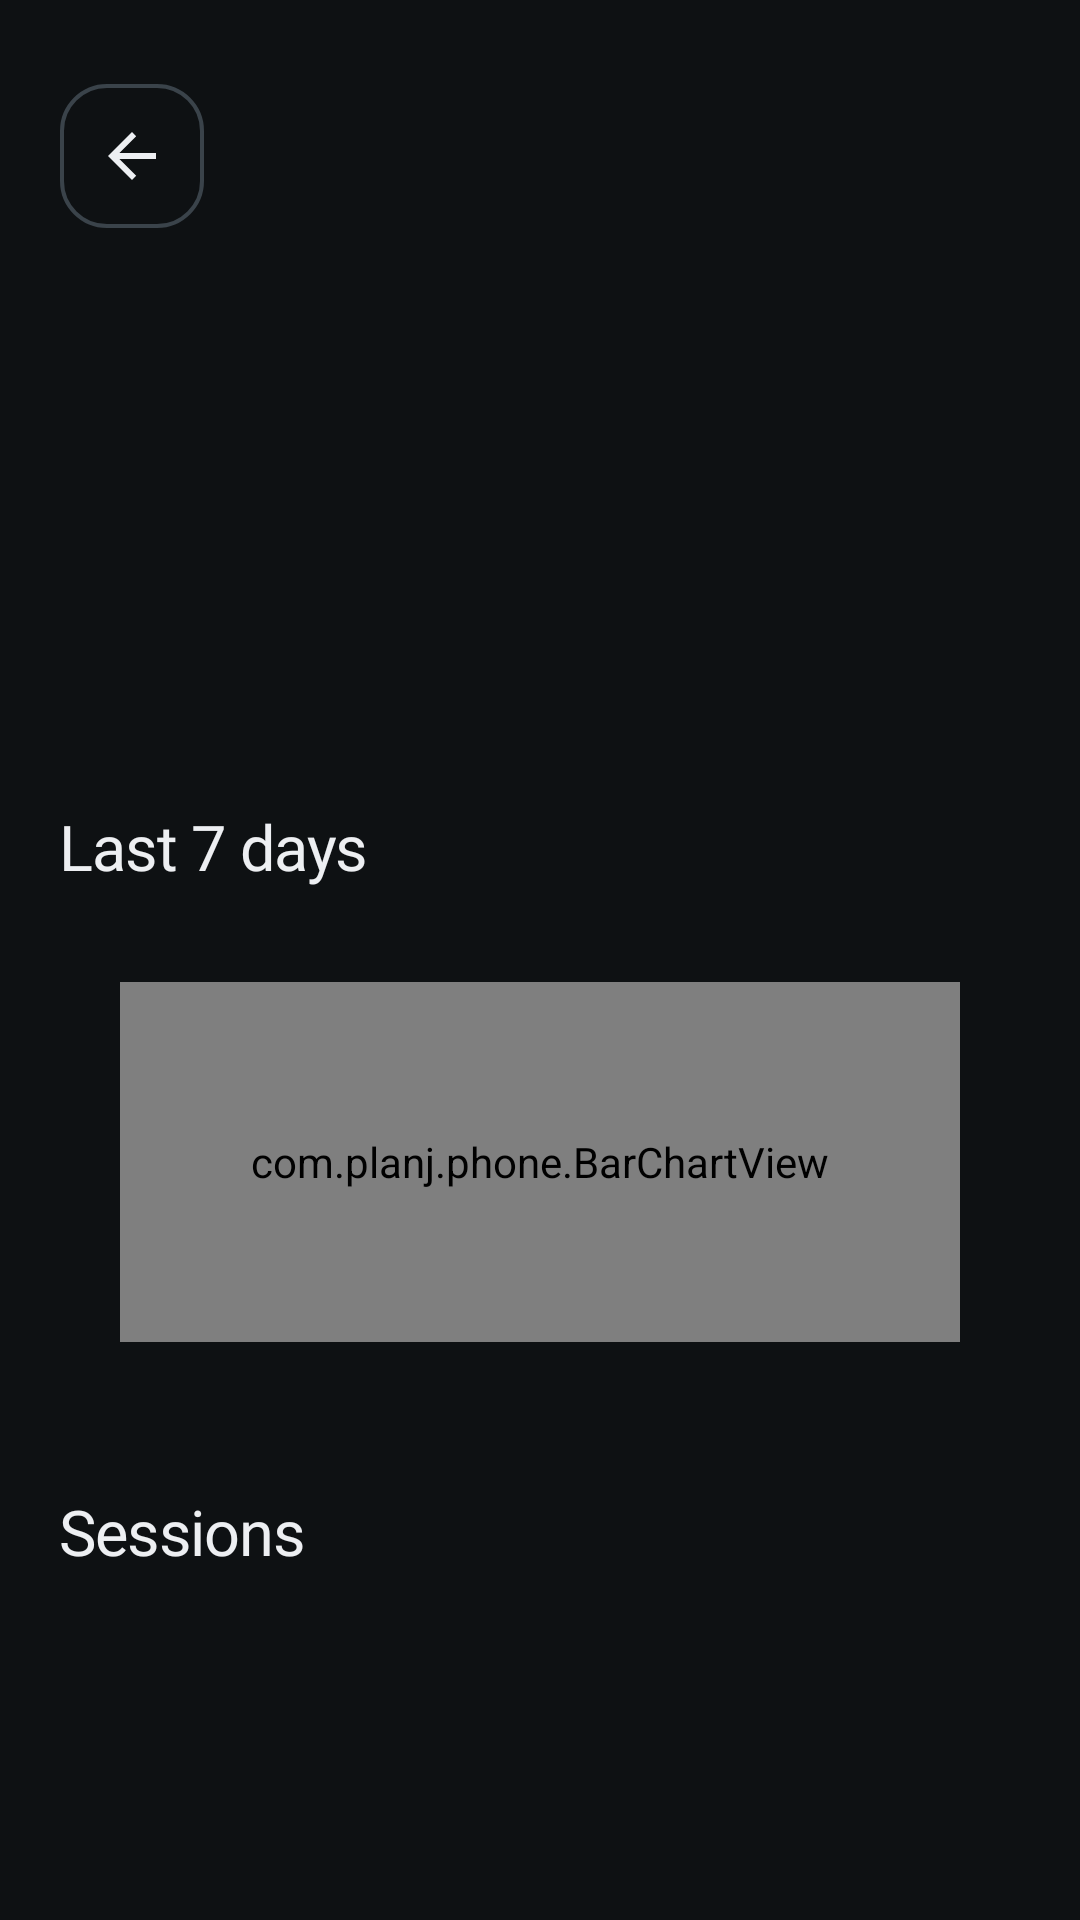

Named icons in this screenshot (1080 × 1920) and their bounding boxes, (x1, y1, x2, y2):
Back: (60, 84, 204, 228)
